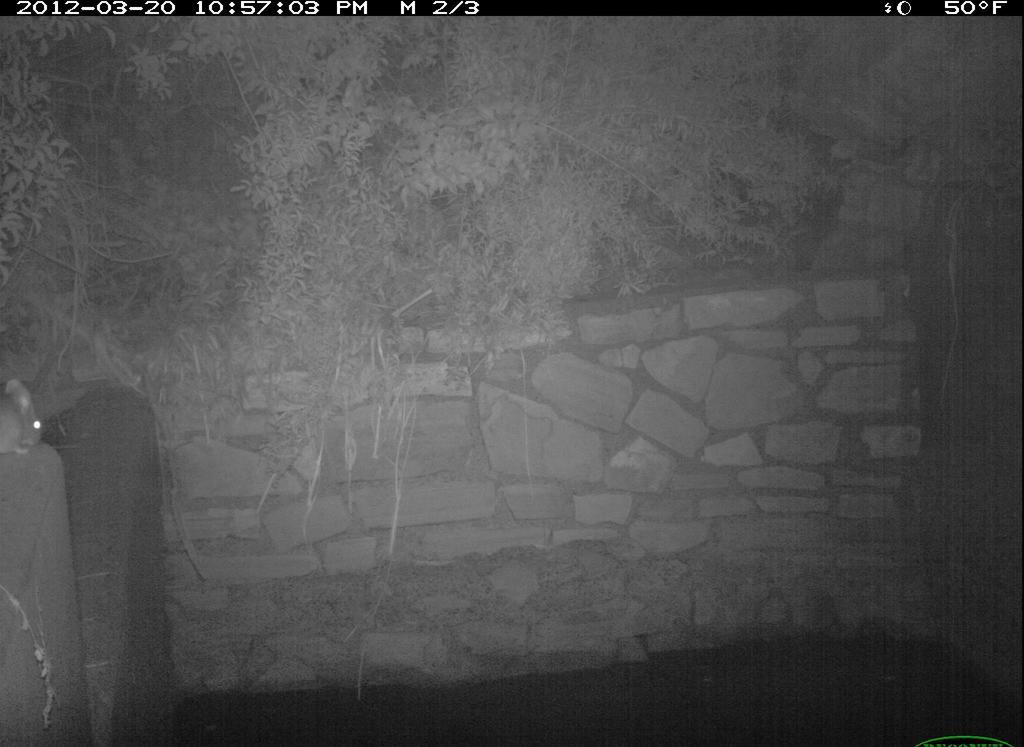rodent: (4, 365, 62, 480)
